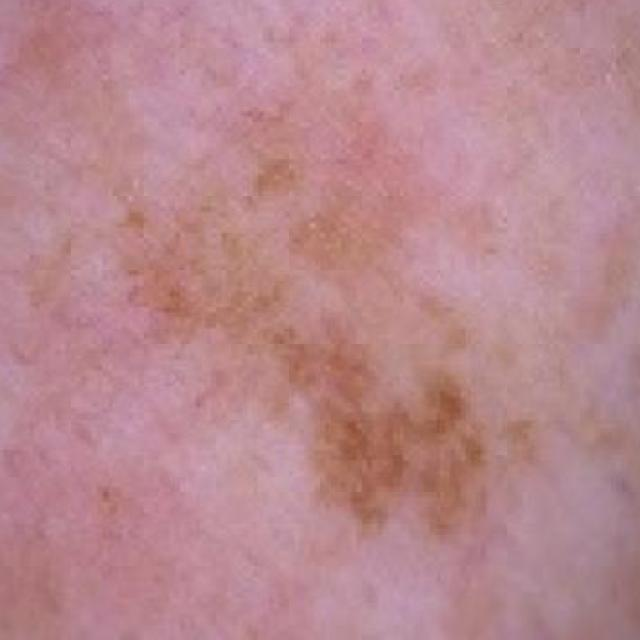BKL: (166, 104, 574, 604)
